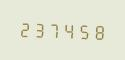eight: (93, 21, 107, 41)
five: (78, 20, 92, 41)
four: (63, 20, 77, 40)
seven: (48, 19, 62, 39)
three: (32, 18, 46, 39)
two: (17, 18, 31, 38)
